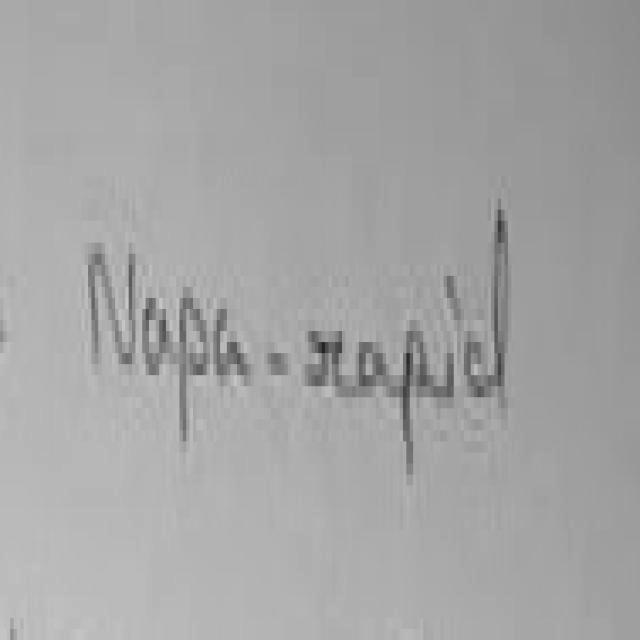N: (88, 254, 135, 364)
a: (212, 309, 251, 390), (142, 298, 178, 370), (359, 342, 398, 397)
d: (467, 210, 508, 401)
i: (447, 276, 464, 331), (447, 353, 457, 392)
p: (179, 298, 210, 441), (404, 331, 430, 480)
r: (308, 331, 352, 398)
